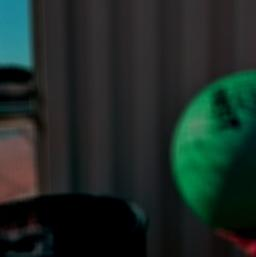algae: (168, 64, 256, 230)
